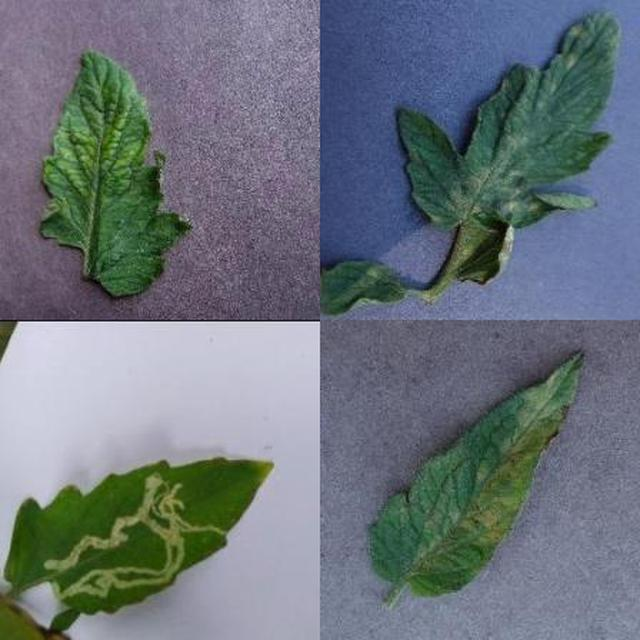Mosaic Virus Leaf: (164, 212, 640, 640)
